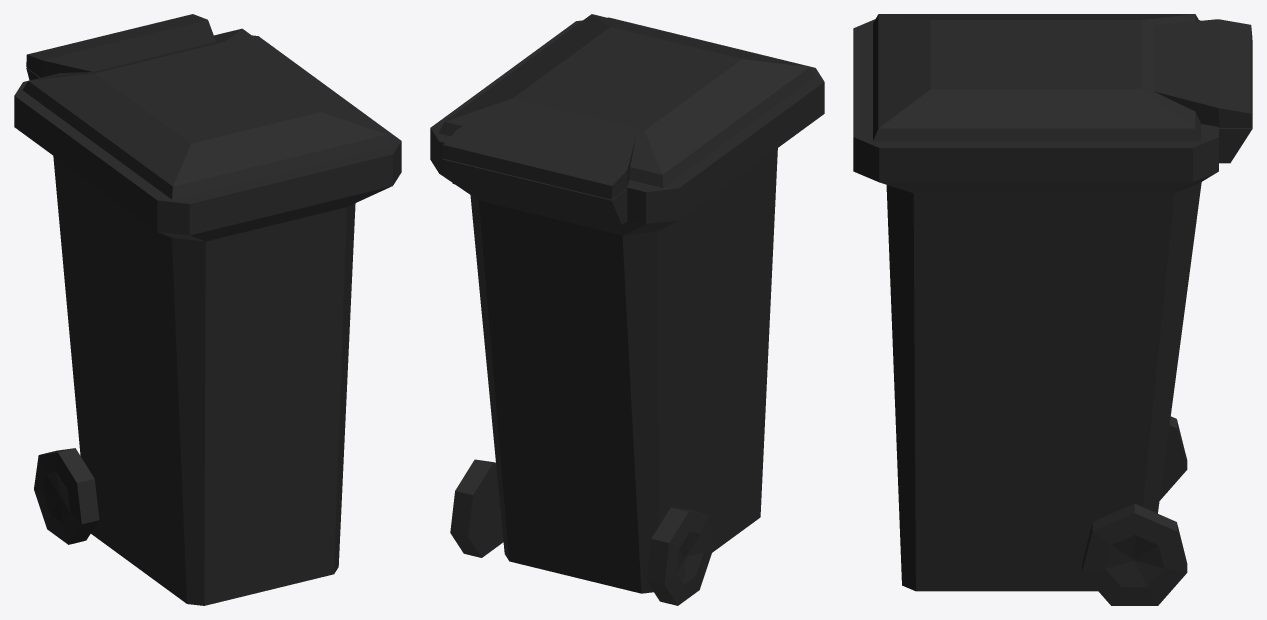
The model's file is bin-wheelie.glb.
The picture shows the model from 3 angles, left to right: view 1: azimuth 30°, elevation 25°; view 2: azimuth 150°, elevation 25°; view 3: azimuth 270°, elevation 25°; orthographic projection. The views are drawn at different scales.
Parts seen in each view (by area): view 1: bin-wheelie-base, bin-wheelie-top; view 2: bin-wheelie-base, bin-wheelie-top; view 3: bin-wheelie-base, bin-wheelie-top.
Part boxes in pixels (box(x1,y1,x2,y2)): bin-wheelie-base: box(14, 35, 401, 605); bin-wheelie-top: box(22, 14, 392, 199); bin-wheelie-base: box(430, 17, 824, 605); bin-wheelie-top: box(439, 14, 815, 199); bin-wheelie-base: box(853, 19, 1252, 605); bin-wheelie-top: box(873, 14, 1252, 141).
Size of the model in its own units: 0.596 by 1.06 by 0.7695.
Materials: 1 (1 with a texture image).
